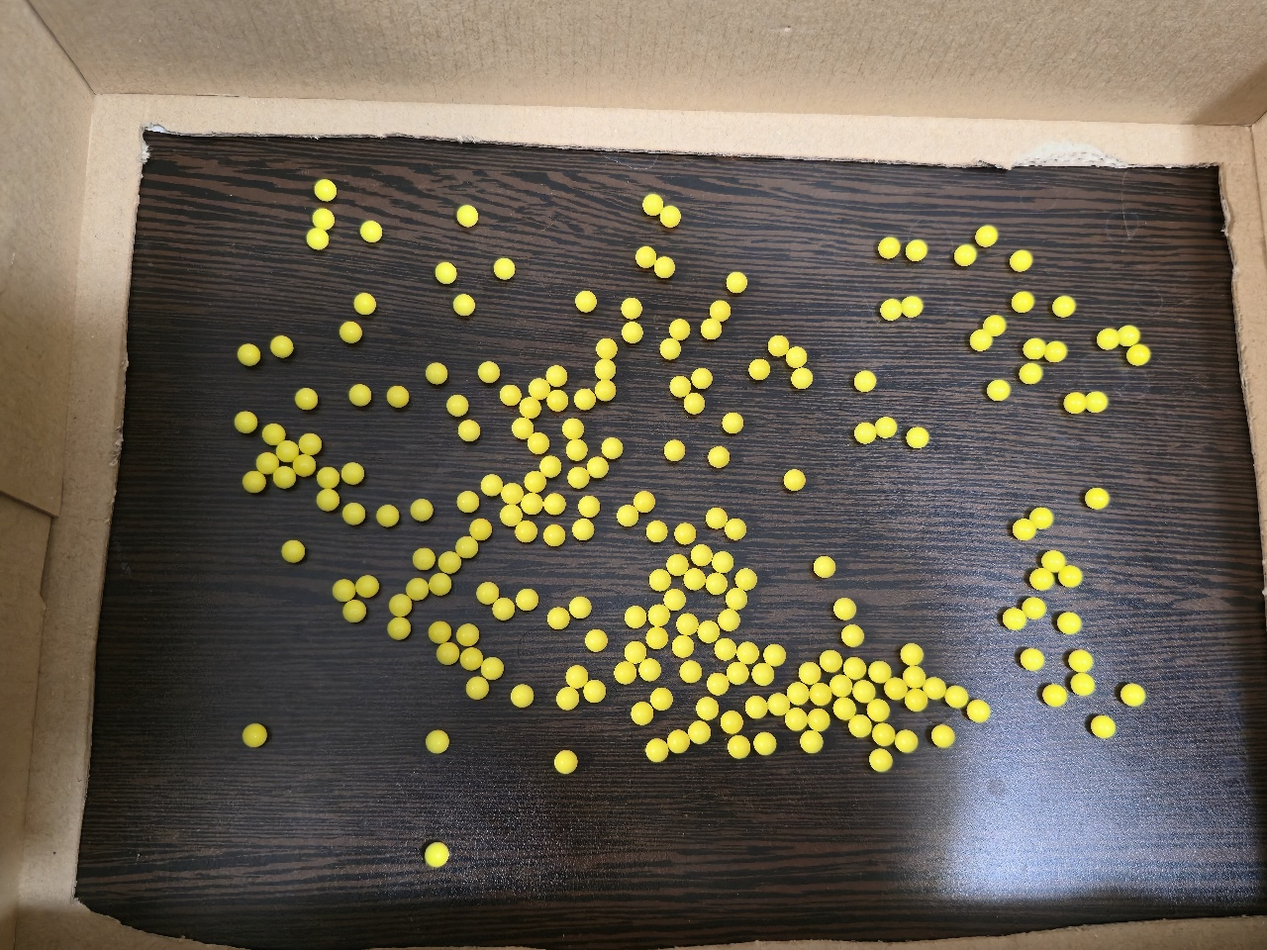yellow_bead: (975, 321, 1002, 345), (1102, 331, 1135, 344), (1069, 397, 1103, 408), (1076, 677, 1090, 691), (1035, 572, 1049, 585), (1047, 556, 1061, 569), (431, 848, 443, 862), (936, 731, 950, 743), (1074, 656, 1088, 668), (1027, 603, 1041, 615), (1028, 343, 1043, 354), (759, 737, 771, 750), (806, 735, 818, 748), (1097, 721, 1110, 733), (790, 713, 803, 725), (910, 694, 922, 707), (950, 691, 963, 703), (1127, 690, 1140, 702), (1049, 690, 1062, 702), (927, 683, 940, 695), (834, 680, 847, 692), (1026, 654, 1039, 666), (1018, 523, 1031, 535), (1024, 367, 1037, 379), (1009, 614, 1023, 625), (318, 214, 329, 228), (1047, 346, 1062, 356), (875, 755, 887, 767), (732, 741, 744, 753), (900, 735, 912, 747), (248, 729, 260, 741), (693, 726, 705, 738), (854, 720, 866, 732), (813, 714, 825, 726), (772, 699, 784, 711), (516, 690, 528, 702), (815, 689, 827, 701), (792, 688, 804, 700), (858, 686, 870, 698), (471, 682, 483, 694), (909, 671, 921, 683), (874, 666, 886, 678), (486, 662, 498, 674), (465, 653, 477, 665), (287, 545, 299, 557), (878, 728, 889, 741), (562, 692, 573, 705), (757, 668, 768, 681), (1063, 618, 1076, 629), (1035, 513, 1048, 524), (993, 385, 1006, 396), (886, 304, 899, 315), (1058, 301, 1071, 312), (905, 301, 918, 312), (312, 231, 323, 244), (1091, 493, 1105, 503), (559, 757, 571, 768), (651, 745, 662, 757), (672, 736, 683, 748), (973, 706, 985, 717), (750, 702, 762, 713), (655, 694, 666, 706), (589, 686, 600, 698), (891, 683, 902, 695), (620, 667, 631, 679), (685, 666, 696, 678), (848, 663, 860, 674), (825, 655, 836, 667), (906, 649, 918, 660), (441, 648, 453, 659), (677, 640, 688, 652), (393, 622, 405, 633), (348, 606, 360, 617), (498, 603, 509, 615), (574, 602, 585, 614), (731, 593, 742, 605), (361, 581, 373, 592), (711, 578, 722, 590), (435, 578, 446, 590), (443, 557, 455, 568), (418, 553, 429, 565), (505, 510, 517, 521), (348, 508, 359, 520), (322, 495, 334, 506), (278, 472, 290, 483), (346, 468, 358, 479), (912, 432, 924, 443), (960, 249, 972, 260), (636, 708, 647, 719), (873, 705, 884, 716), (839, 703, 850, 714), (702, 703, 713, 714), (571, 671, 582, 682), (804, 668, 815, 679), (731, 668, 742, 679), (720, 644, 731, 655), (590, 635, 601, 646), (651, 632, 662, 643), (847, 630, 858, 641), (462, 629, 473, 640), (434, 627, 445, 638), (703, 626, 714, 637), (723, 614, 734, 625), (653, 610, 664, 621), (839, 604, 850, 615), (669, 595, 680, 606), (522, 594, 533, 605), (482, 588, 493, 599), (412, 584, 423, 595), (654, 575, 665, 586), (740, 574, 751, 585), (689, 574, 700, 585), (718, 557, 729, 568), (696, 550, 707, 561), (461, 542, 472, 553), (382, 511, 393, 522), (416, 505, 427, 516), (462, 497, 473, 508), (486, 480, 497, 491), (248, 476, 259, 487), (323, 472, 334, 483), (261, 458, 272, 469), (268, 429, 279, 440), (354, 390, 365, 401), (859, 376, 870, 387), (276, 341, 287, 352), (499, 263, 510, 274), (1016, 255, 1027, 266), (884, 241, 895, 252), (365, 226, 376, 237), (320, 185, 331, 196), (432, 736, 442, 748), (726, 716, 736, 728), (742, 647, 752, 659), (682, 618, 692, 630), (395, 600, 405, 612), (506, 489, 518, 499), (281, 446, 293, 456), (859, 428, 871, 438), (600, 363, 610, 375), (440, 267, 450, 279), (981, 230, 993, 240), (713, 679, 723, 690), (769, 650, 779, 661), (630, 647, 640, 658), (1067, 573, 1078, 583), (672, 560, 682, 571), (549, 530, 559, 541), (651, 526, 661, 537), (578, 524, 588, 535), (623, 511, 633, 522), (584, 501, 594, 512), (549, 499, 559, 510), (527, 499, 537, 510), (789, 475, 799, 486), (573, 472, 583, 483), (592, 462, 602, 473), (545, 461, 555, 472), (571, 444, 581, 455), (463, 426, 474, 436), (567, 424, 578, 434), (517, 423, 528, 433), (452, 400, 462, 411), (689, 398, 699, 409), (579, 394, 589, 405), (301, 394, 312, 404), (392, 392, 403, 402), (600, 385, 610, 396), (675, 381, 685, 392), (797, 373, 807, 384), (244, 349, 254, 360), (458, 300, 468, 311), (359, 299, 369, 310), (462, 210, 472, 221), (304, 439, 316, 448), (630, 612, 640, 622), (819, 562, 829, 572), (680, 528, 690, 538), (521, 526, 531, 536), (475, 525, 485, 535), (714, 452, 724, 462), (607, 443, 617, 453), (533, 438, 543, 448), (525, 402, 535, 412), (552, 395, 562, 405), (505, 390, 515, 400), (534, 384, 544, 394), (484, 367, 494, 377), (791, 352, 801, 362), (665, 343, 675, 353), (773, 340, 783, 350), (715, 306, 725, 316), (581, 296, 591, 306), (659, 262, 669, 272), (641, 251, 651, 261), (665, 211, 675, 221), (648, 199, 658, 209), (646, 664, 655, 675), (552, 614, 563, 623), (339, 585, 348, 596), (711, 514, 722, 523), (530, 476, 539, 487), (669, 445, 678, 456), (880, 423, 891, 432), (240, 418, 251, 427), (432, 368, 441, 379), (602, 343, 611, 354), (911, 245, 922, 254), (731, 524, 740, 534), (638, 498, 648, 507), (697, 373, 706, 383), (551, 371, 561, 380), (754, 365, 764, 374), (345, 328, 355, 337), (674, 325, 684, 334), (706, 324, 716, 333), (1017, 297, 1026, 307), (731, 277, 740, 287), (728, 418, 737, 427), (627, 303, 635, 313), (628, 328, 636, 337), (1132, 352, 1143, 358), (302, 460, 310, 466)
